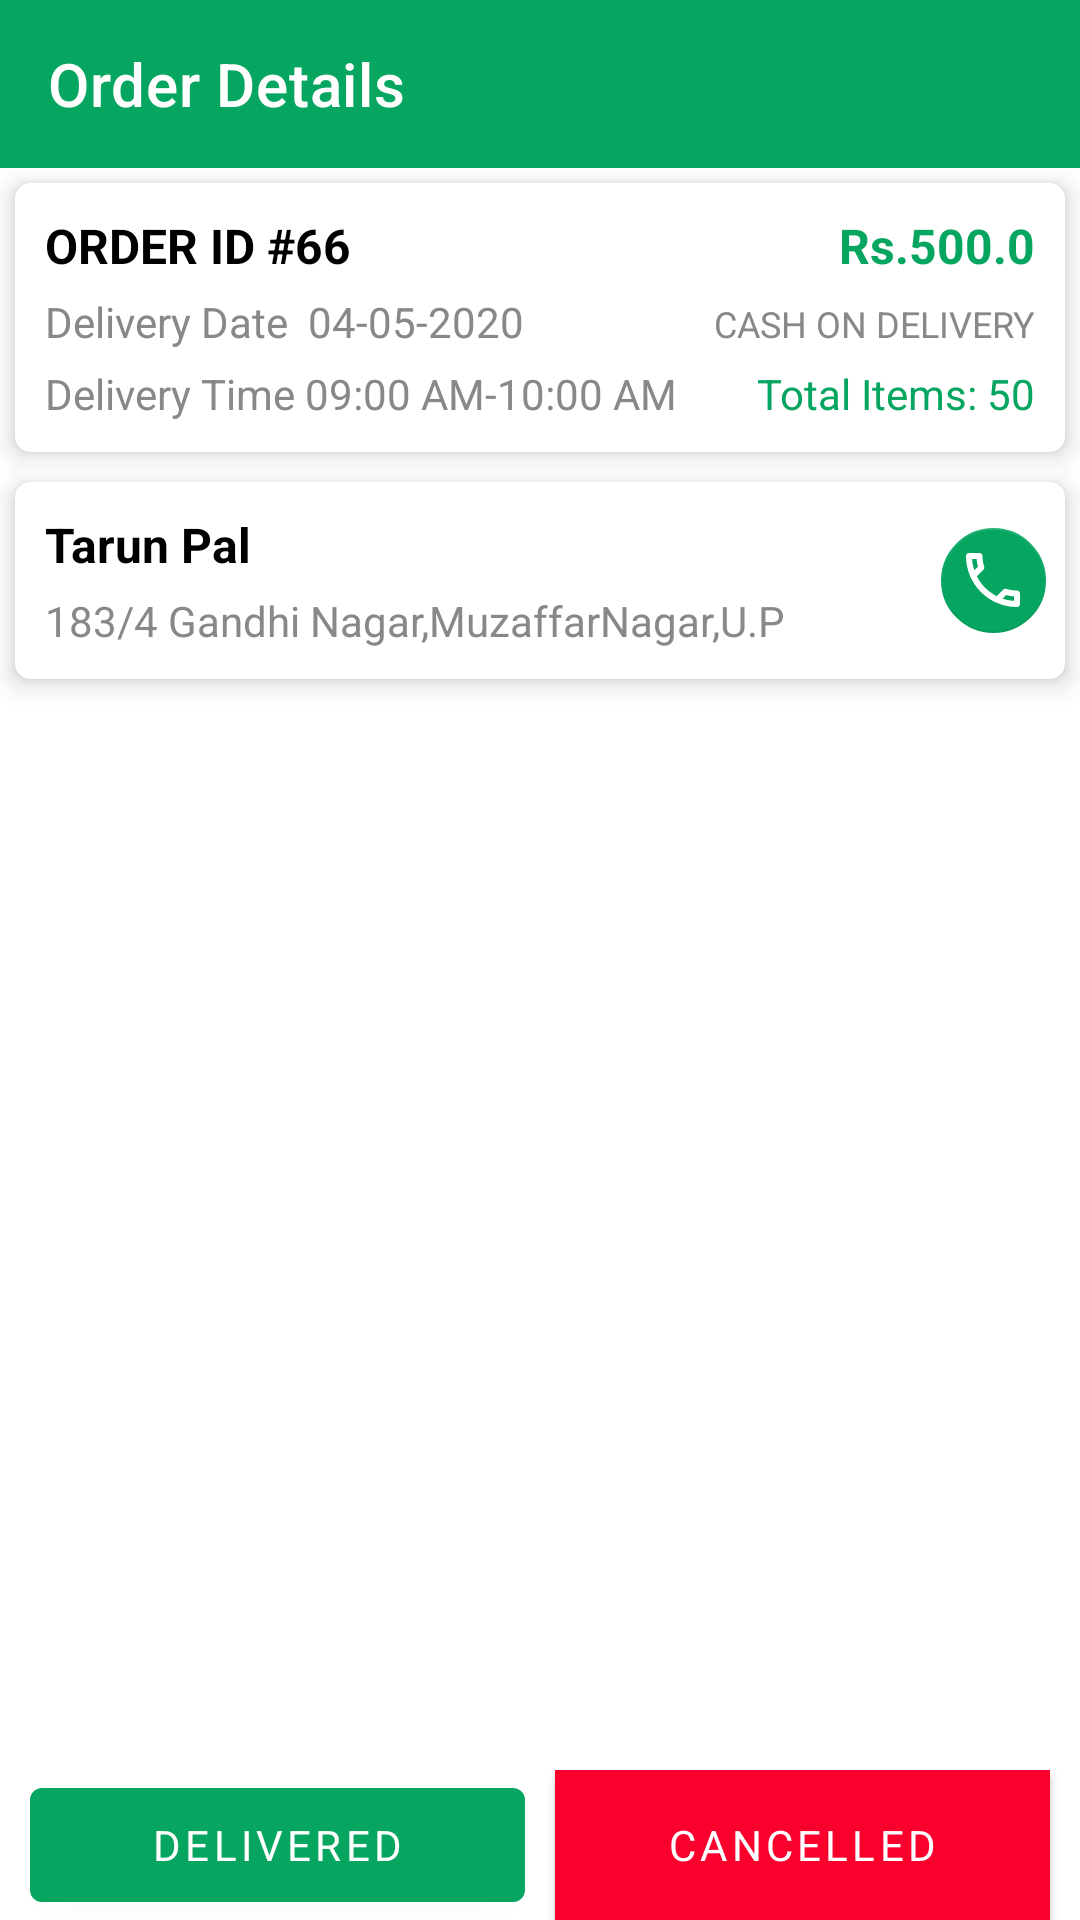

Icons on this 1080*1920 Android screen, each with the point to tap as [x,y]:
call: [993,580]
